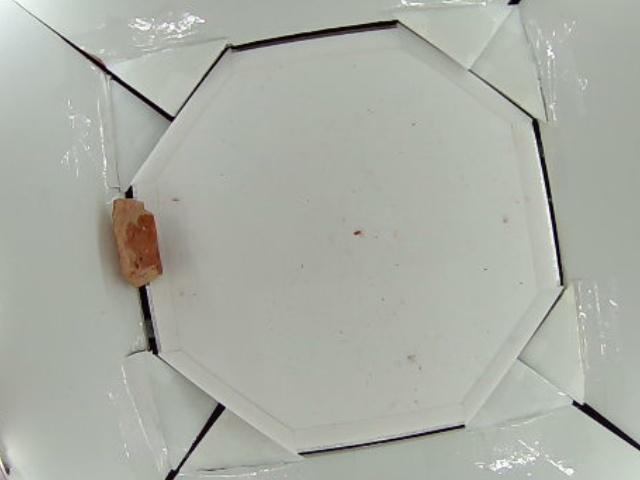Brisk: (111, 198, 166, 289)
